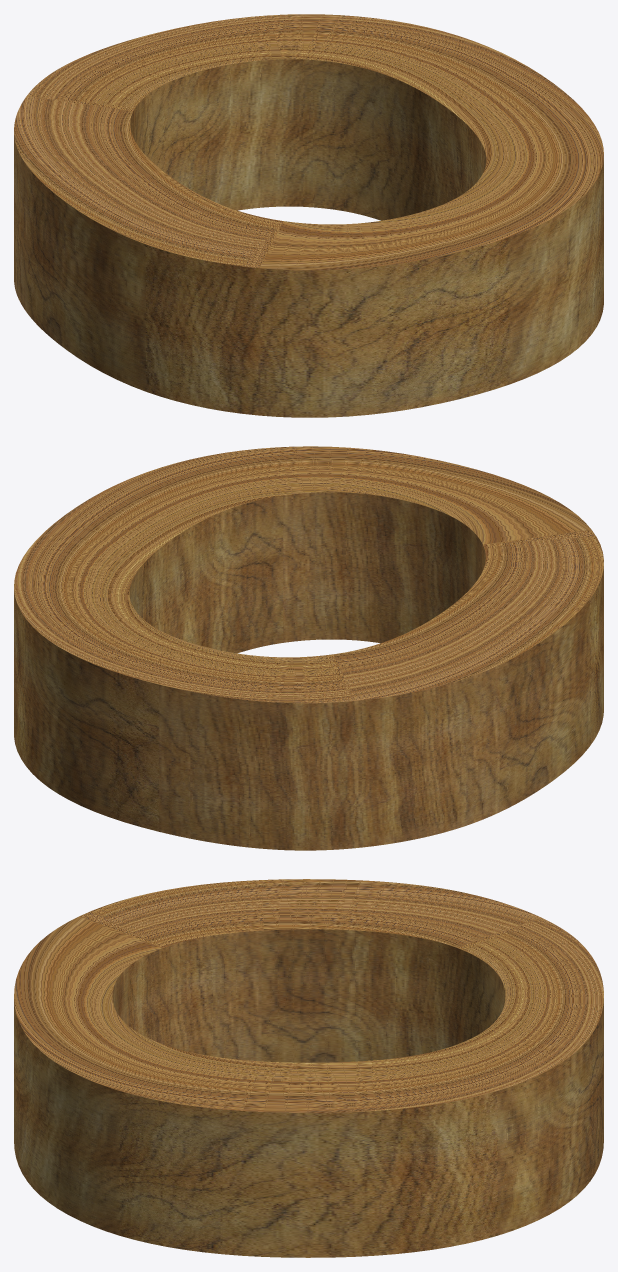
3 renders of one model, top to bottom at view 1: azimuth 30°, elevation 25°; view 2: azimuth 150°, elevation 25°; view 3: azimuth 270°, elevation 25°, orthographic.
Visible parts, largest first — view 1: O; view 2: O; view 3: O.
Boxes of the visible parts, bbox=[...] form: O: bbox=[14, 14, 603, 417]; O: bbox=[14, 446, 603, 850]; O: bbox=[14, 879, 603, 1257].
Bounding box in the file's own units: 48.48 × 14 × 51.69.
1 material, 1 textured.
